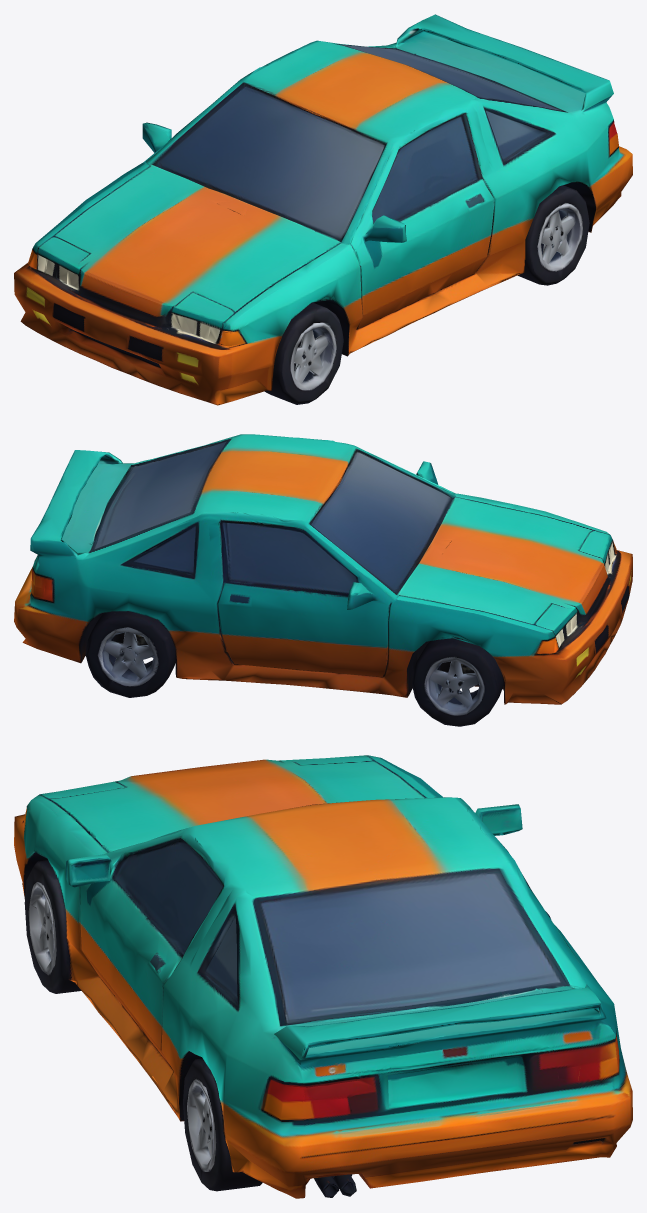
File: nebula_zx.glb
The picture shows the model from 3 angles, top to bottom: view 1: azimuth 30°, elevation 25°; view 2: azimuth 150°, elevation 25°; view 3: azimuth 270°, elevation 25°; orthographic projection. The views are drawn at different scales.
Visible parts, largest first — view 1: tripo_node_82a119f1-ea1d-4679-9ae5-6109032e4221; view 2: tripo_node_82a119f1-ea1d-4679-9ae5-6109032e4221; view 3: tripo_node_82a119f1-ea1d-4679-9ae5-6109032e4221.
Boxes of the visible parts, bbox=[...] form: tripo_node_82a119f1-ea1d-4679-9ae5-6109032e4221: bbox=[14, 14, 632, 405]; tripo_node_82a119f1-ea1d-4679-9ae5-6109032e4221: bbox=[14, 434, 632, 726]; tripo_node_82a119f1-ea1d-4679-9ae5-6109032e4221: bbox=[14, 755, 632, 1198].
Bounding box in the file's own units: 0.9799 × 0.3132 × 0.6821.
Materials: 1 (1 with a texture image).
